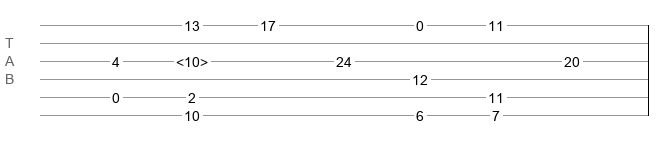0: (112, 90, 120, 100), (416, 18, 424, 28)
10: (184, 108, 200, 118)
11: (488, 18, 504, 28), (488, 90, 504, 100)
12: (412, 72, 428, 82)
13: (184, 18, 200, 28)
17: (260, 18, 276, 28)
2: (188, 90, 196, 100)
20: (564, 54, 580, 64)
24: (336, 54, 352, 64)
4: (112, 54, 120, 64)
6: (416, 108, 424, 118)
7: (492, 108, 500, 118)
harmonic: (176, 54, 208, 64)
